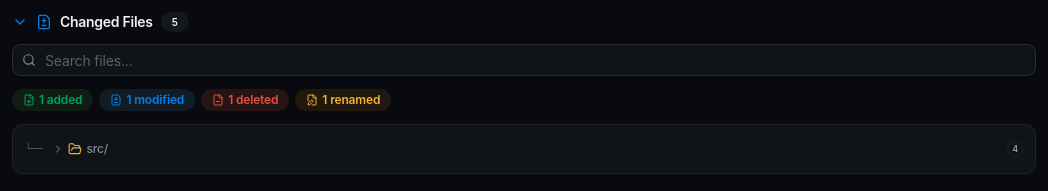
Test: ChangedFilesSection › empty state › should show "No files match your search" when search has no results
Type "nonexistent-file" into the field with placeholder "Search files..." at (524, 60), box [12, 44, 1036, 76]
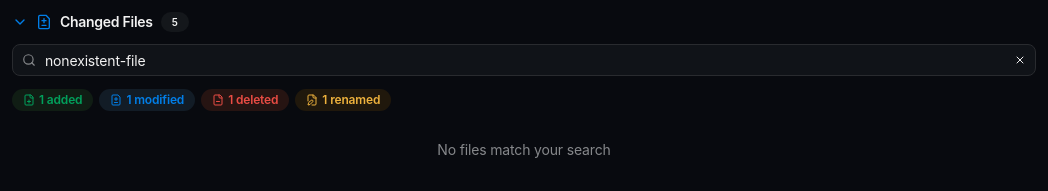
Check: the text "No files match your search" is shown, box [437, 141, 611, 158]
